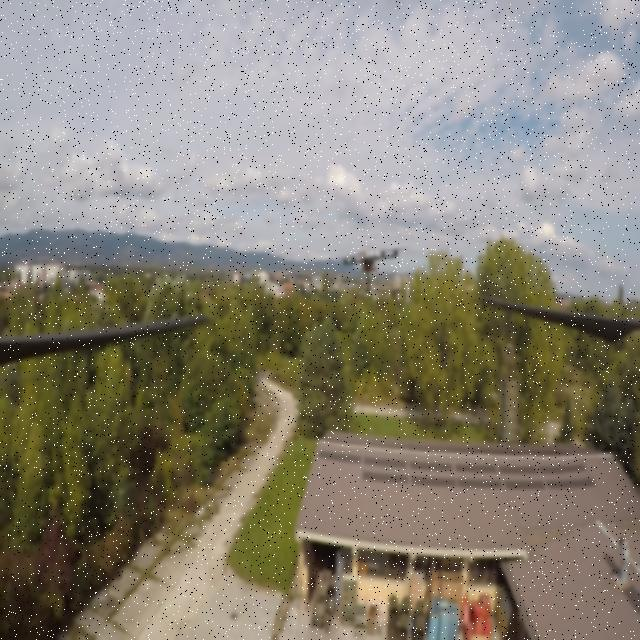UAV: (332, 242, 412, 300)
